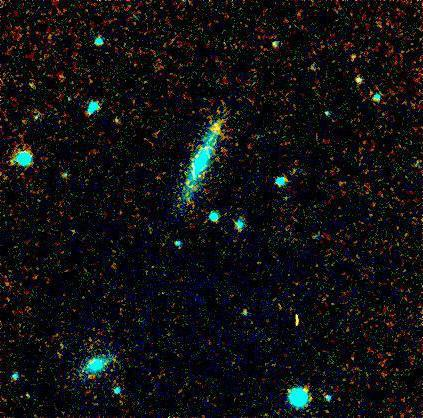star: (199, 113, 229, 143)
